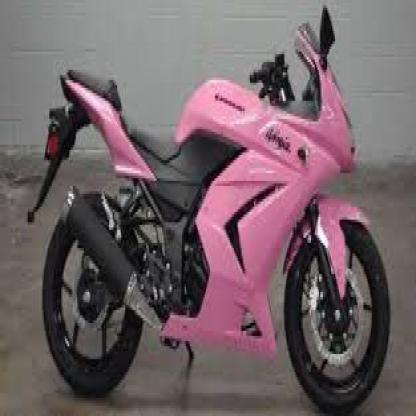Motorcycle: (22, 1, 395, 415)
